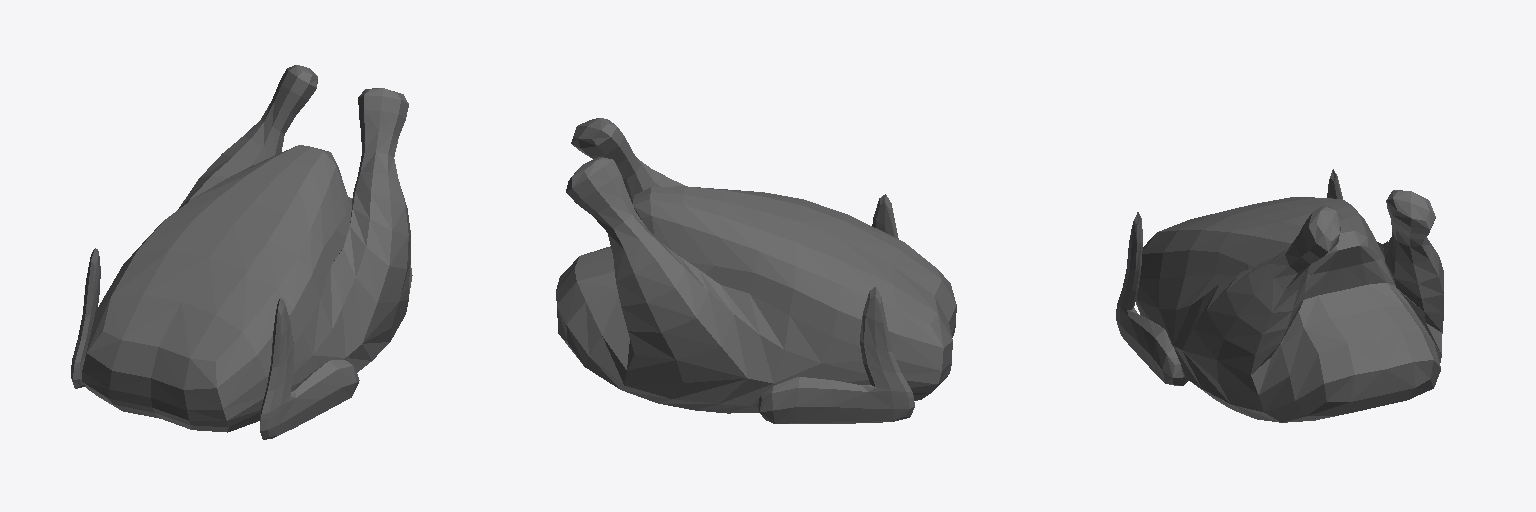
File: pollo.obj
3 renders of one model, left to right at view 1: azimuth 30°, elevation 25°; view 2: azimuth 150°, elevation 25°; view 3: azimuth 270°, elevation 25°, orthographic.
Visible parts, largest first — view 1: Cube.001; view 2: Cube.001; view 3: Cube.001.
Part boxes in pixels (left/top/right/bottom): Cube.001: left=71, top=65, right=412, bottom=439; Cube.001: left=556, top=118, right=956, bottom=423; Cube.001: left=1116, top=169, right=1443, bottom=422.
Bounding box in the file's own units: 1.46 × 0.9425 × 1.2.